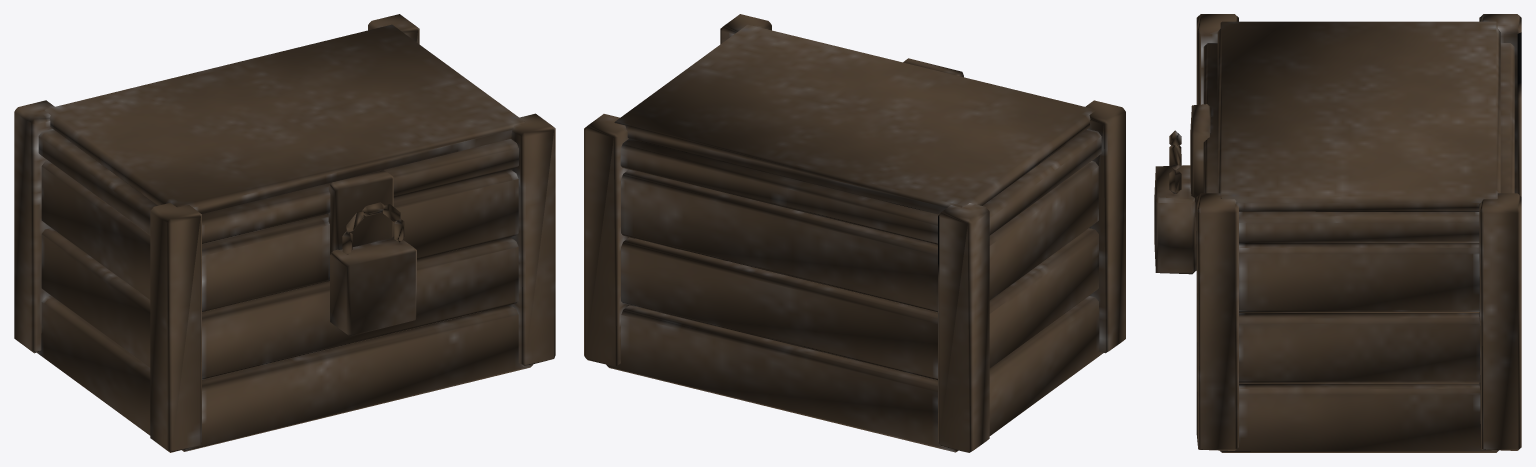
The model's file is Alijo.fbx.
The picture shows the model from 3 angles, left to right: view 1: azimuth 30°, elevation 25°; view 2: azimuth 150°, elevation 25°; view 3: azimuth 270°, elevation 25°; orthographic projection. The views are drawn at different scales.
Visible parts, largest first — view 1: Alijo; view 2: Alijo; view 3: Alijo.
Part boxes in pixels (left/top/right/bottom): Alijo: left=14, top=14, right=555, bottom=452; Alijo: left=584, top=14, right=1125, bottom=452; Alijo: left=1154, top=14, right=1521, bottom=452.
Size of the model in its own units: 3.3 by 1.96 by 2.6.
